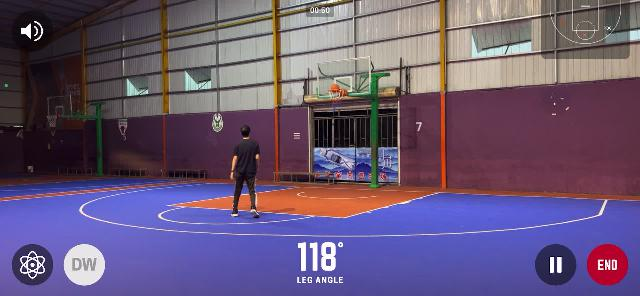ball: (330, 82, 340, 92)
basket: (328, 89, 346, 105), (46, 114, 58, 127)
